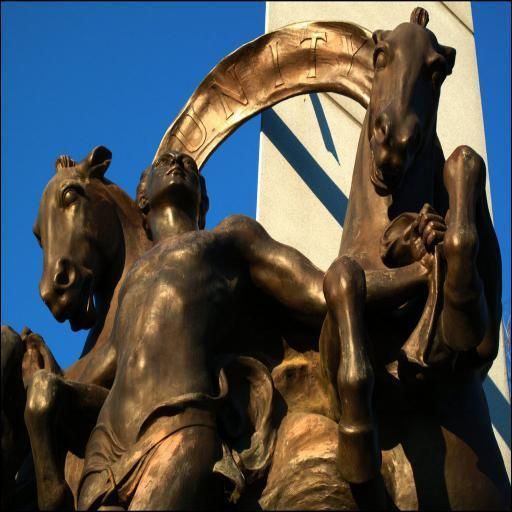horse: (320, 2, 502, 512), (23, 142, 157, 512)
